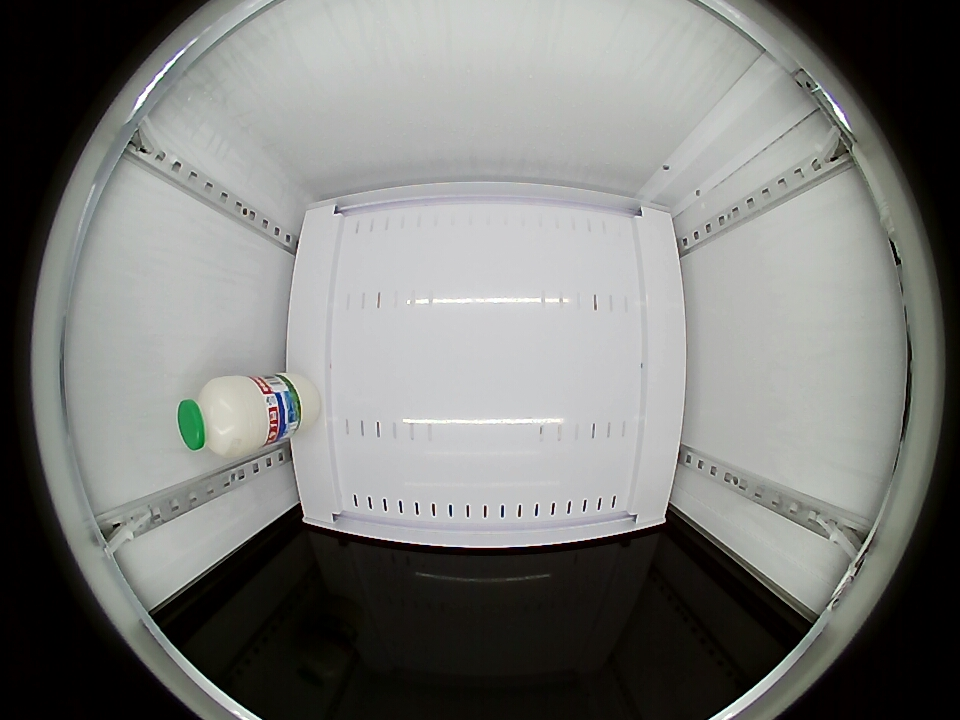liziyuan: (177, 375, 273, 458)
